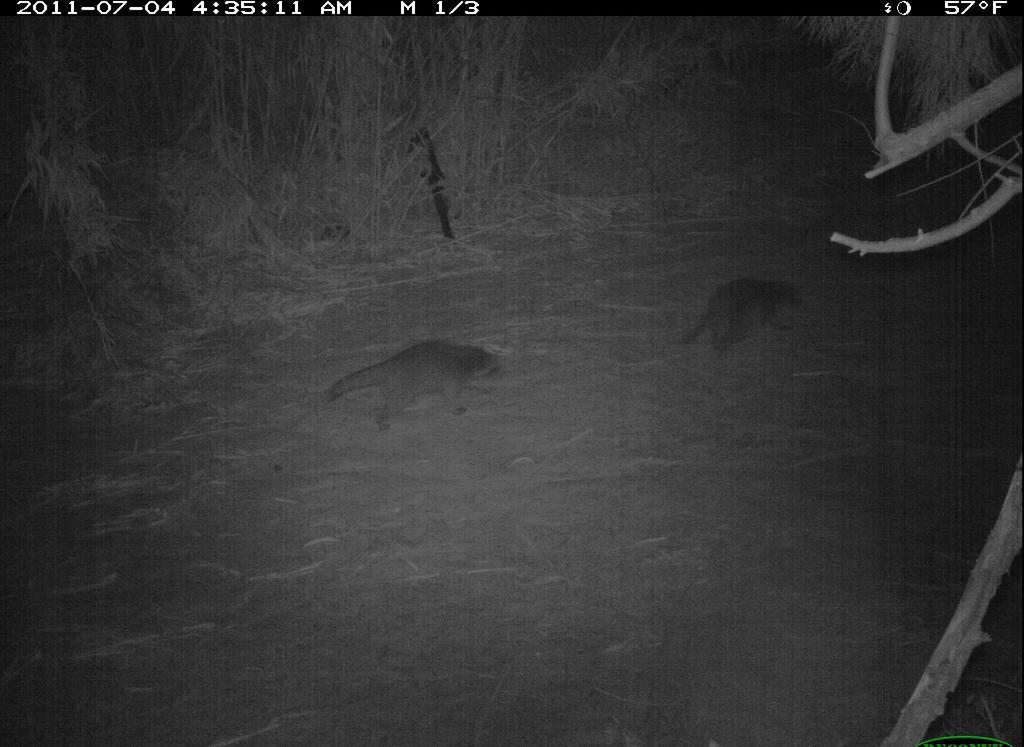raccoon: (321, 336, 520, 440), (678, 271, 817, 363)
